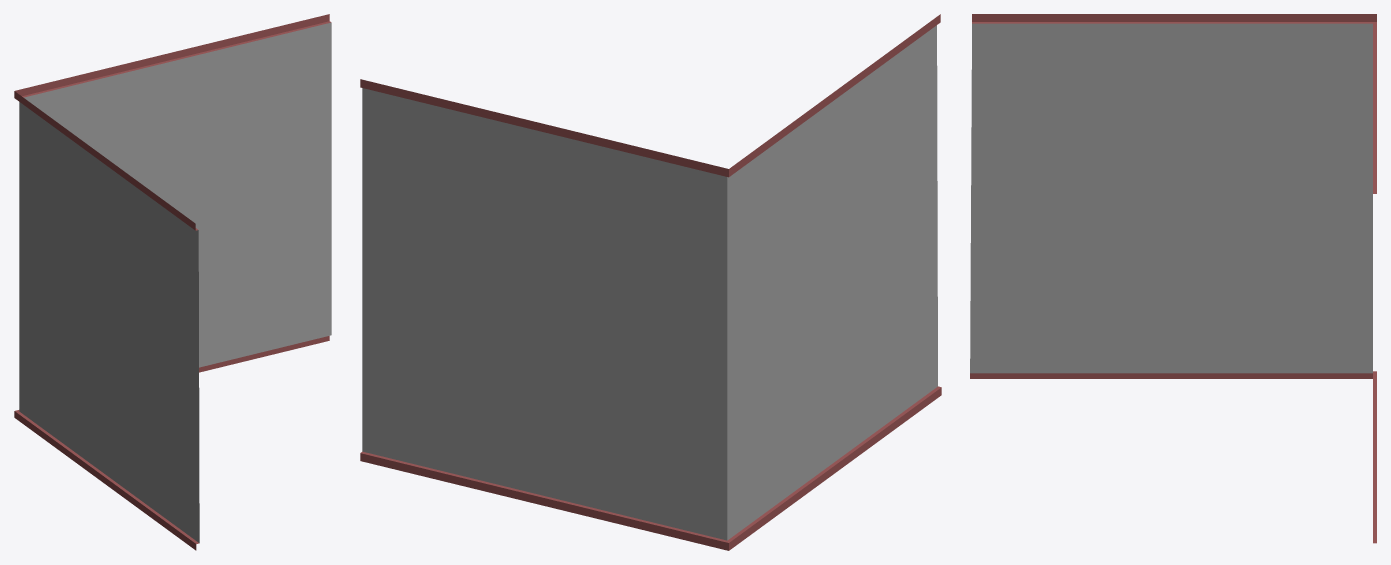
The model's file is Prop_WallIntCorner2_5x5_01.fbx.
3 views of the same model, side by side, from view 1: azimuth 30°, elevation 25°; view 2: azimuth 150°, elevation 25°; view 3: azimuth 270°, elevation 25° (orthographic). The views are drawn at different scales.
Visible parts, largest first — view 1: Prop_WallIntCorner2_5x5; view 2: Prop_WallIntCorner2_5x5; view 3: Prop_WallIntCorner2_5x5.
Part boxes in pixels (x1,y1,x2,y2): Prop_WallIntCorner2_5x5: [14, 14, 331, 550]; Prop_WallIntCorner2_5x5: [360, 14, 941, 550]; Prop_WallIntCorner2_5x5: [970, 14, 1376, 543].
Size of the model in its own units: 2.53 by 2.5 by 2.53.
